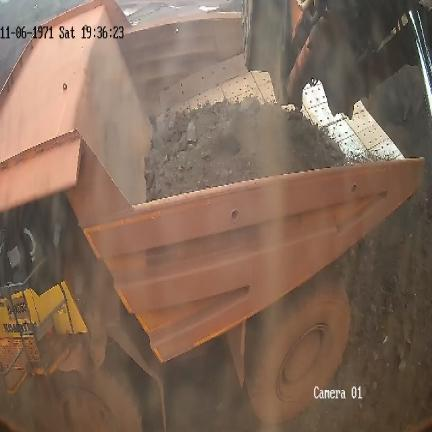pile: (145, 97, 350, 203), (336, 175, 431, 388)
